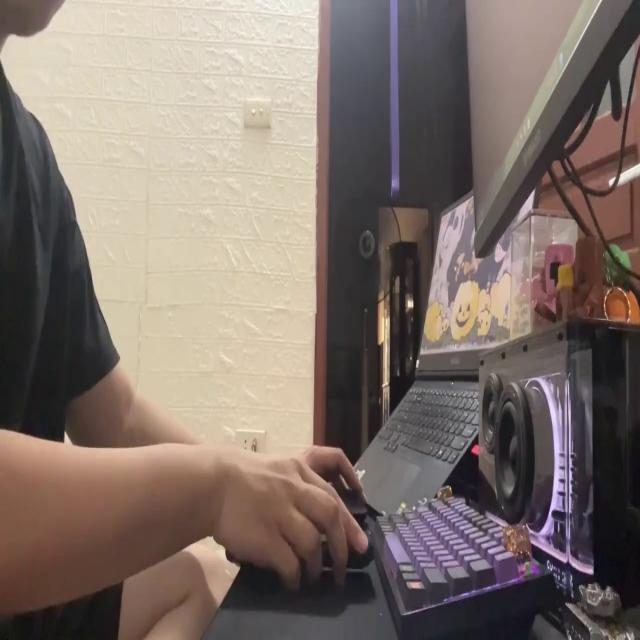laptop: (348, 179, 542, 510), (464, 0, 640, 248)
phone: (228, 528, 375, 578)
student: (1, 0, 368, 640)
